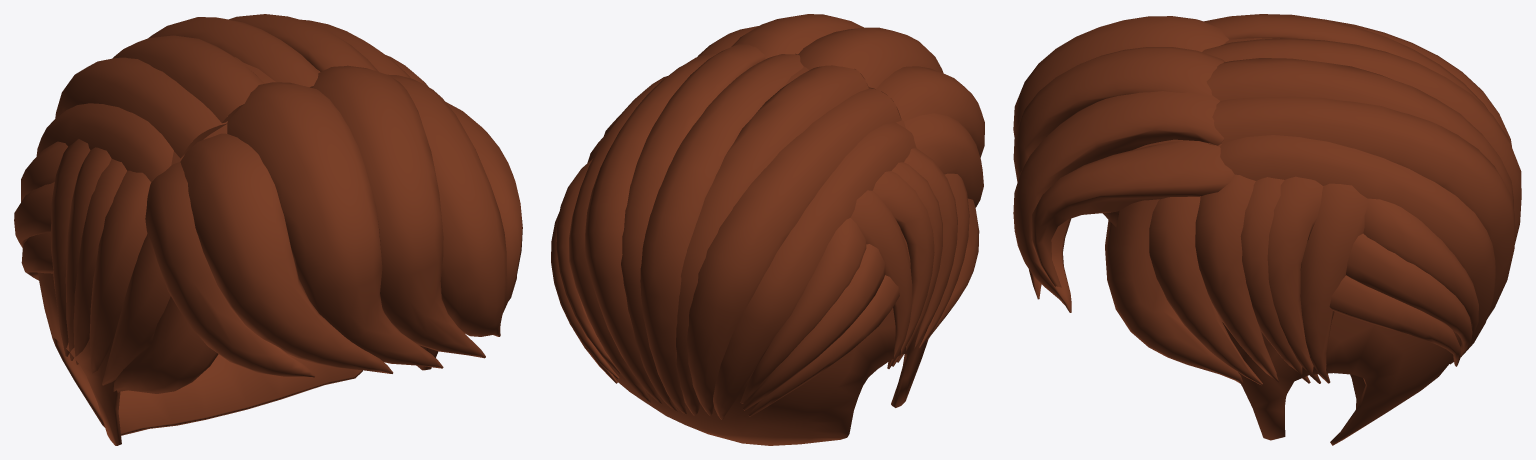
Rendered from hair-7-77626f3a.glb.
3 renders of one model, left to right at view 1: azimuth 30°, elevation 25°; view 2: azimuth 150°, elevation 25°; view 3: azimuth 270°, elevation 25°, orthographic. The views are drawn at different scales.
Parts seen in each view (by area): view 1: hair_7.001; view 2: hair_7.001; view 3: hair_7.001.
Part boxes in pixels (box(x1,y1,x2,y2)): hair_7.001: box(14, 14, 522, 445); hair_7.001: box(551, 14, 984, 445); hair_7.001: box(1013, 14, 1521, 445).
Bounding box in the file's own units: 1.64 × 1.63 × 2.01.
